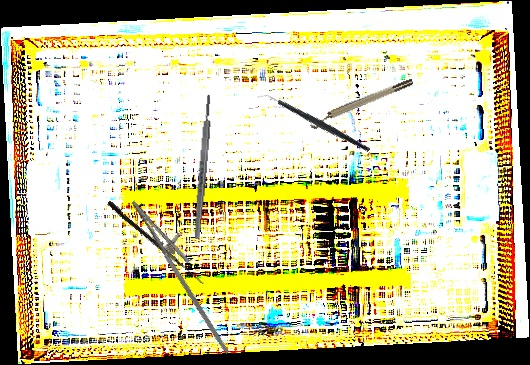Chopper: (255, 62, 372, 184)
Fixation Ring: (306, 76, 417, 131)
Hook Surgical: (105, 200, 208, 285)
Needle Holder: (114, 191, 257, 355)
Scalpel Handle: (192, 93, 214, 241)
